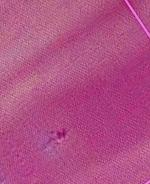knot: (46, 127, 76, 145)
